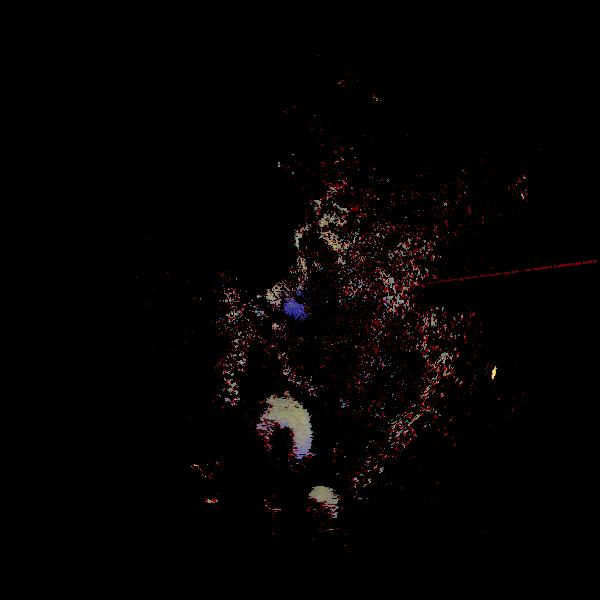roost: (253, 400, 316, 463), (296, 483, 341, 528), (241, 497, 283, 539)
